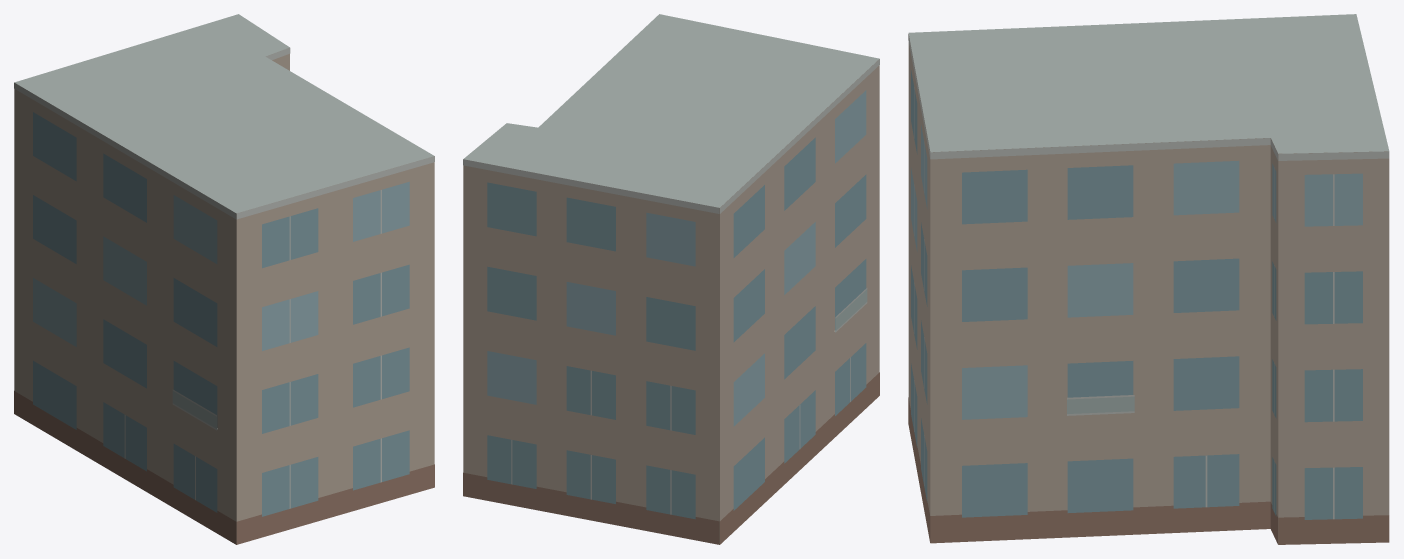
The model's file is survey-upis-32630722.glb.
The picture shows the model from 3 angles, left to right: view 1: azimuth 30°, elevation 25°; view 2: azimuth 150°, elevation 25°; view 3: azimuth 270°, elevation 25°; orthographic projection. The views are drawn at different scales.
Parts seen in each view (by area): view 1: survey-upis-32630722.tmp; view 2: survey-upis-32630722.tmp; view 3: survey-upis-32630722.tmp.
Boxes of the visible parts, x1,y1,x2,y2 form: survey-upis-32630722.tmp: (14,14,434,544); survey-upis-32630722.tmp: (463,14,879,544); survey-upis-32630722.tmp: (908,14,1389,544).
Bounding box in the file's own units: 10.13 × 13.2 × 14.72.
